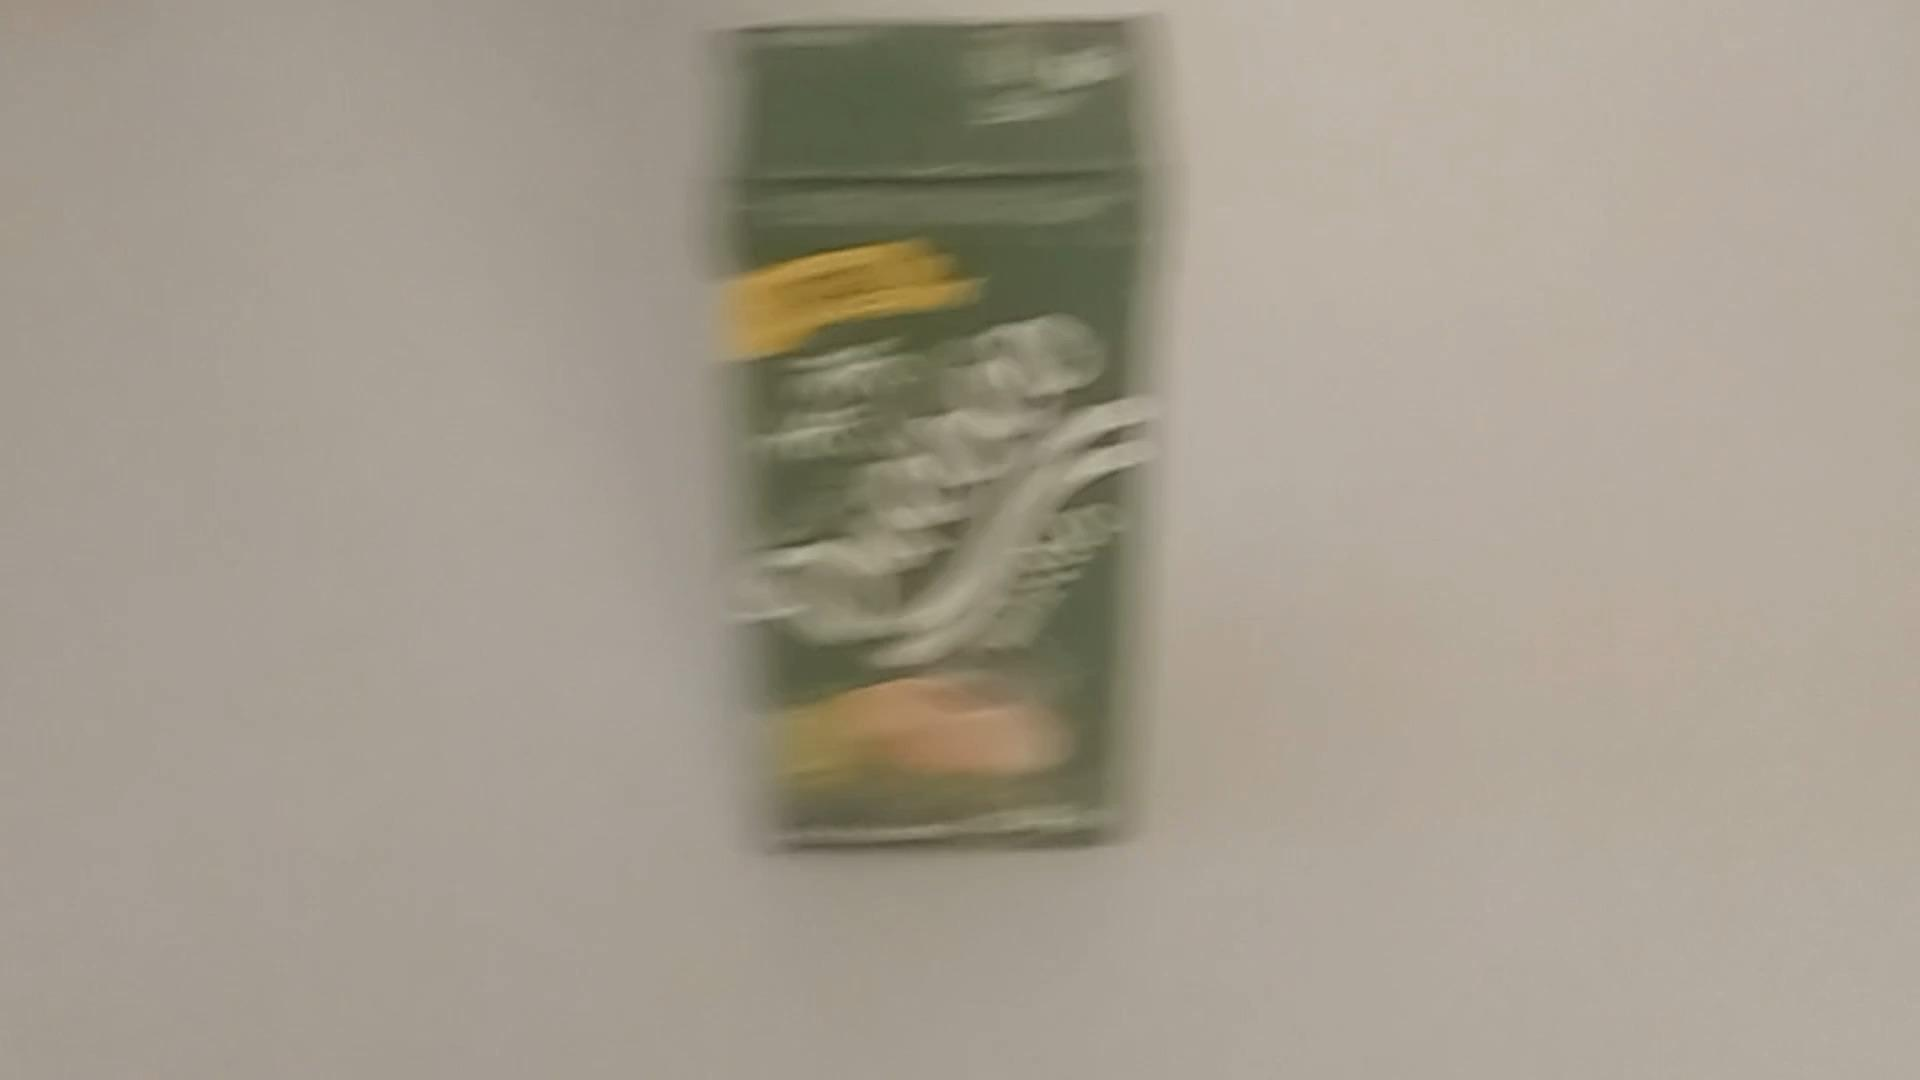coco: (731, 17, 1133, 865)
